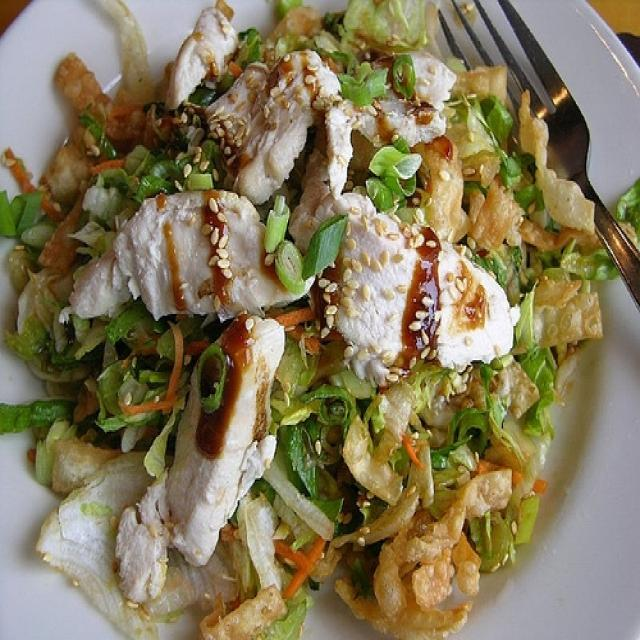鸡肉料理 含炸鸡: (9, 17, 609, 626)
